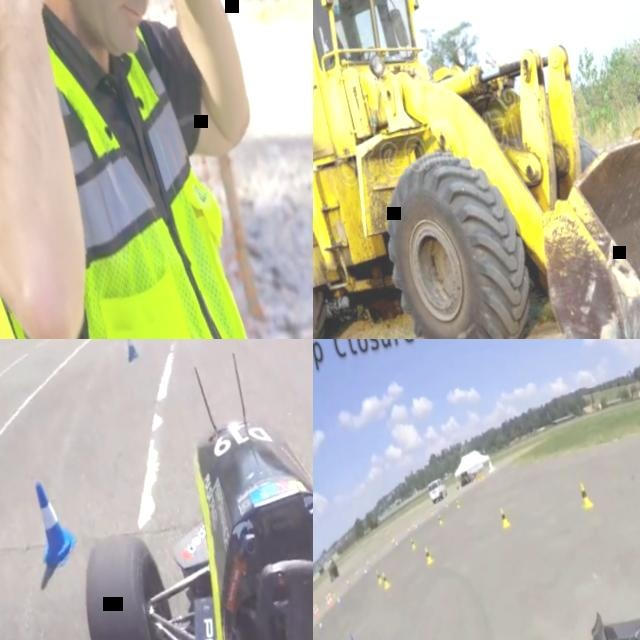NO-Mask: (26, 0, 176, 69)
Person: (0, 0, 305, 339)
Safety Cone: (24, 470, 72, 564), (577, 481, 594, 513), (118, 339, 140, 359), (497, 504, 511, 530), (421, 545, 434, 566), (379, 570, 390, 591), (373, 568, 382, 584), (346, 633, 364, 640), (408, 536, 416, 551), (326, 590, 333, 604), (436, 513, 444, 525), (313, 602, 319, 617), (324, 593, 330, 607), (452, 497, 459, 508), (313, 603, 317, 617)
Safety Vest: (0, 0, 255, 339)
machinery: (313, 0, 640, 339)
vehicle: (50, 371, 313, 640), (491, 493, 640, 640), (426, 477, 448, 504)
